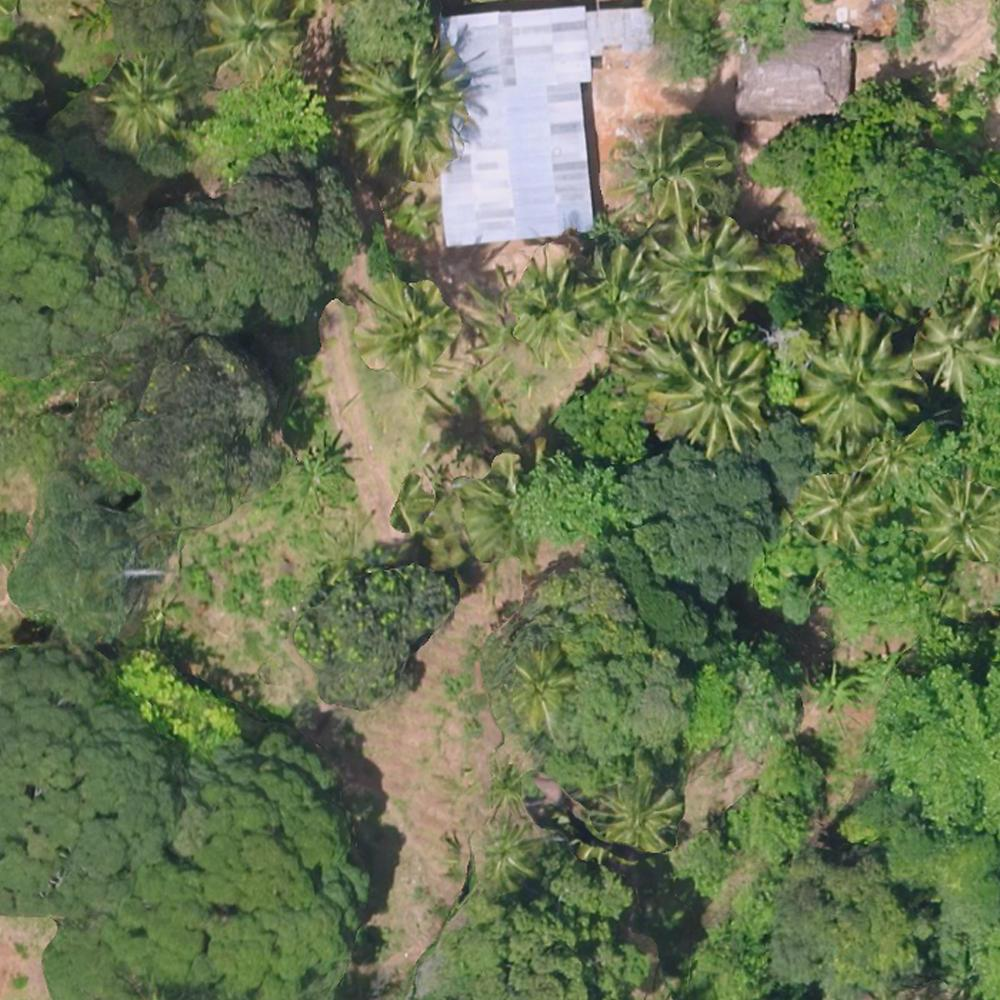Palm: (338, 50, 466, 174), (792, 316, 904, 435), (651, 221, 755, 324), (660, 339, 761, 441), (355, 283, 459, 376), (502, 264, 591, 362), (627, 121, 717, 212), (915, 309, 996, 401), (594, 776, 682, 859), (575, 245, 659, 330), (917, 478, 1000, 562), (504, 640, 584, 723), (100, 59, 181, 140), (797, 465, 875, 548), (210, 1, 296, 75)
